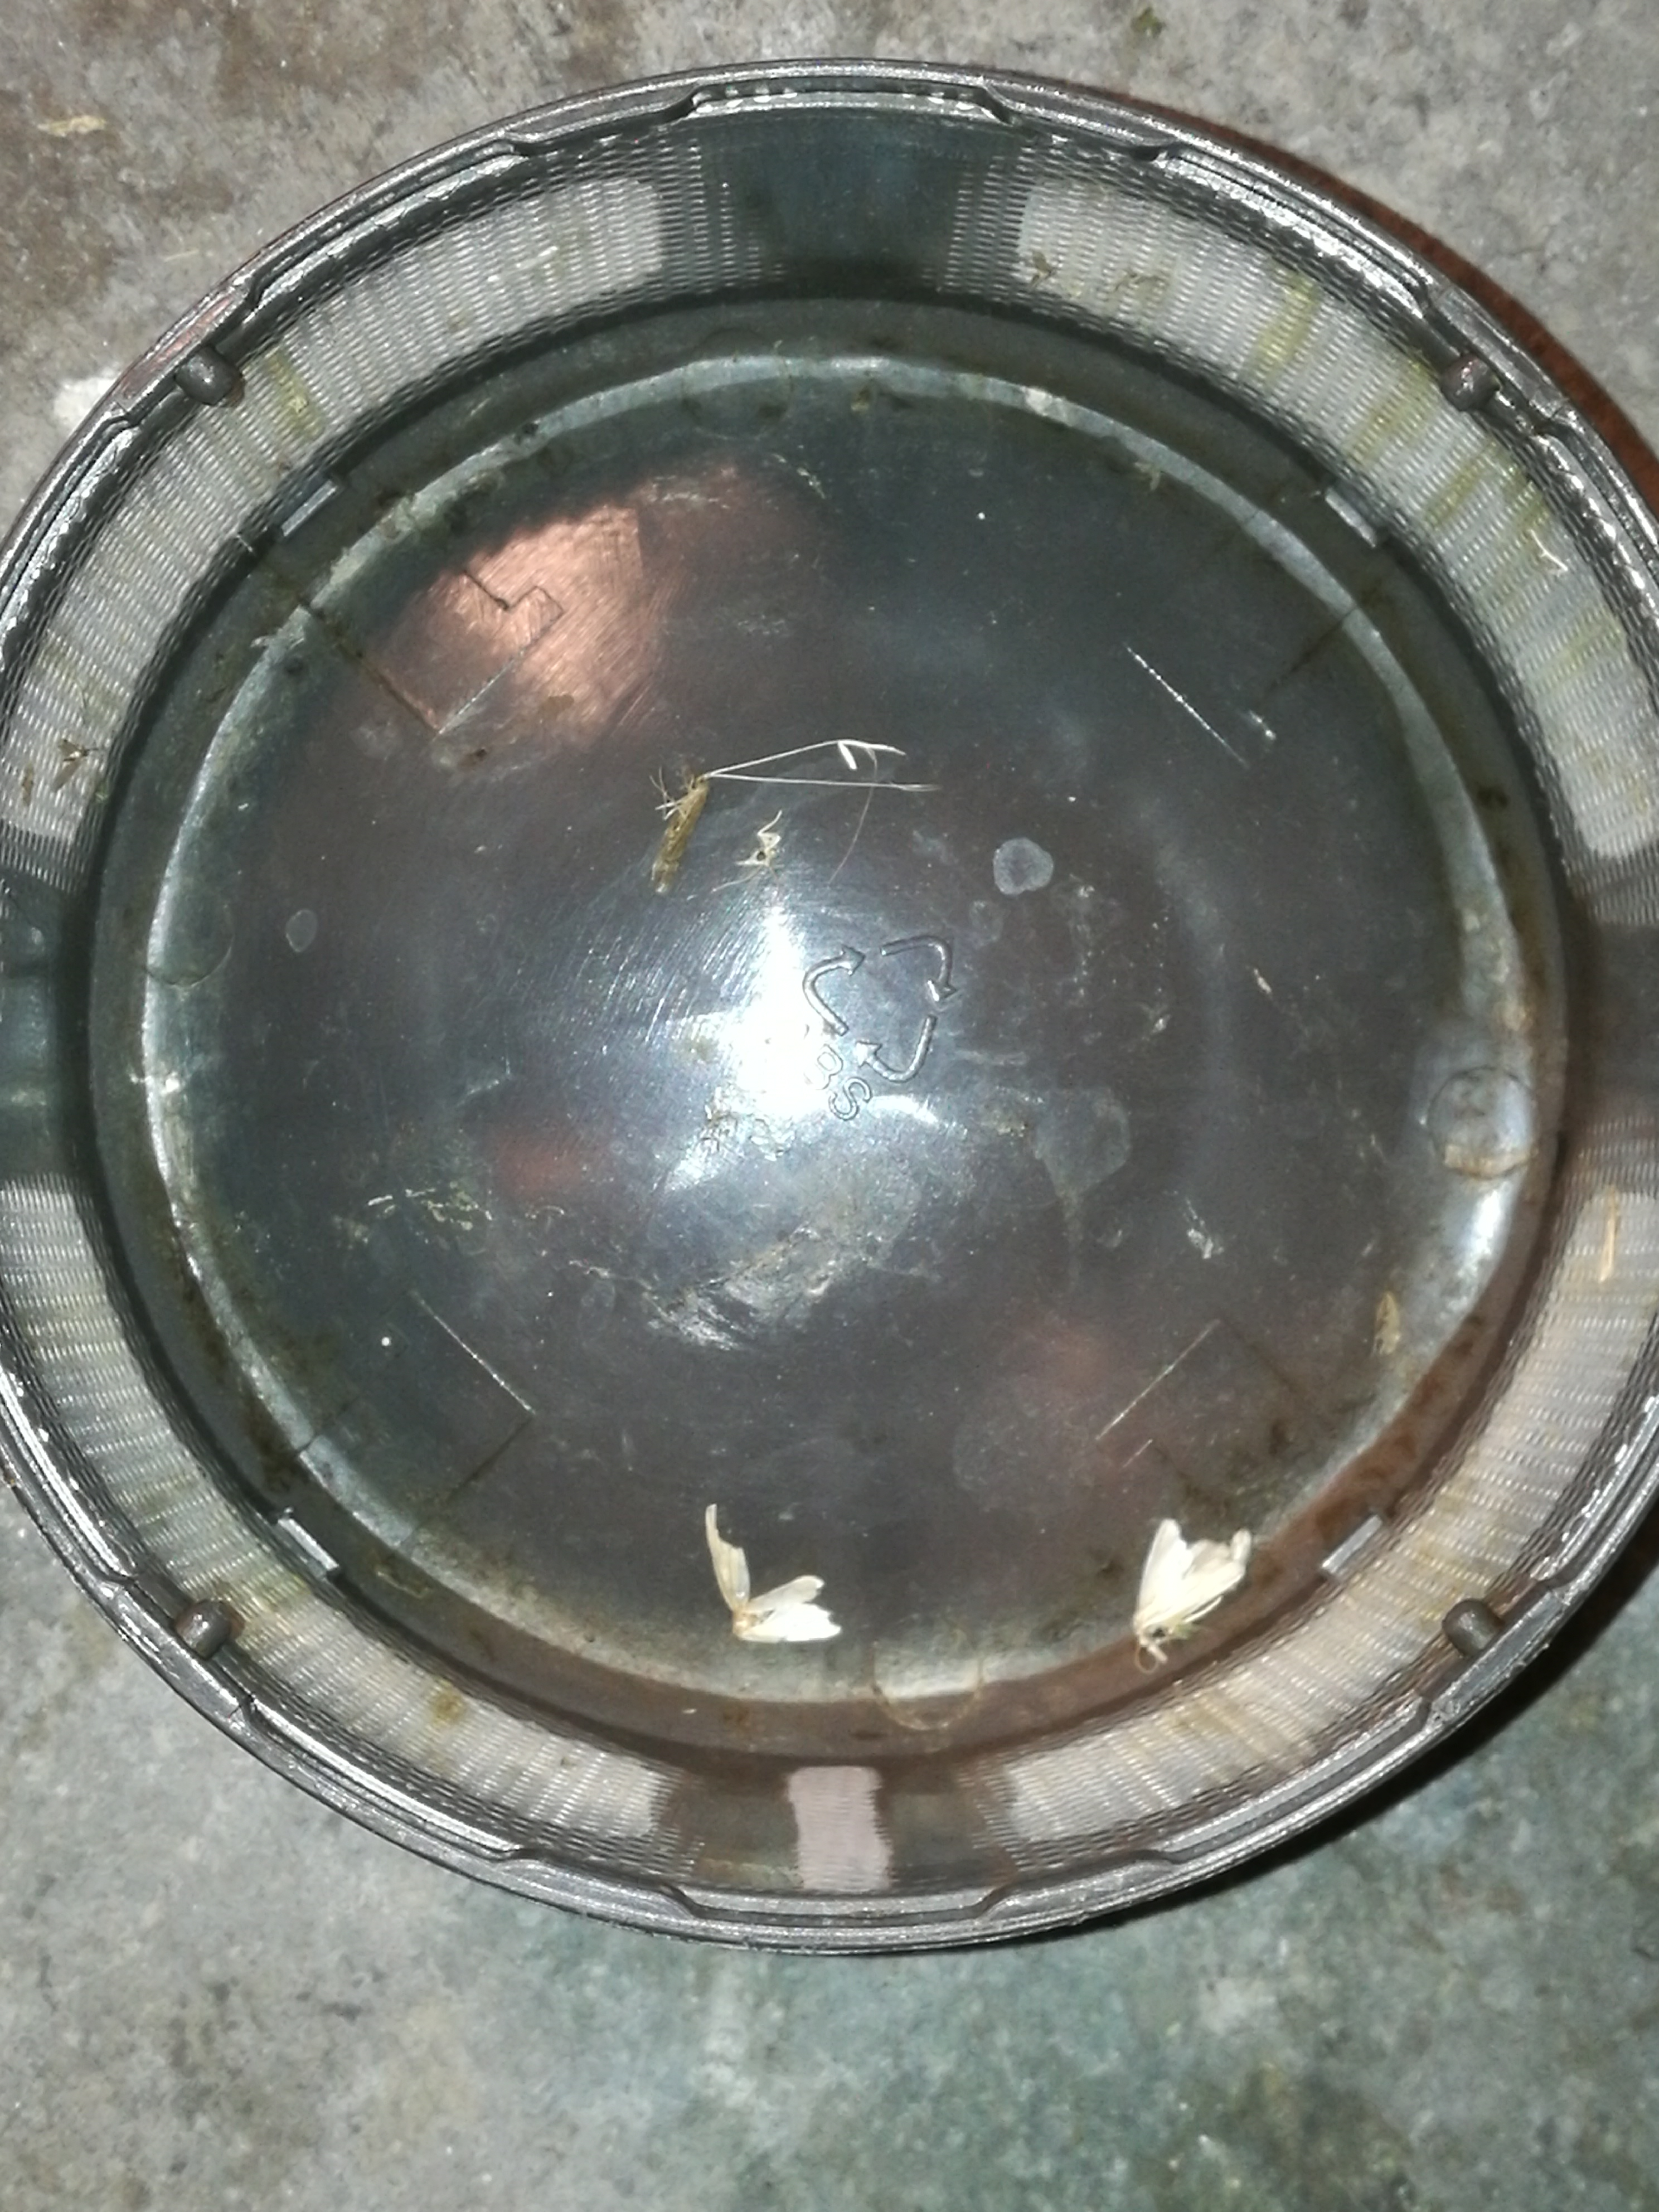mosquito: (653, 777, 708, 890)
moth: (704, 1505, 840, 1644), (1131, 1519, 1251, 1663)
